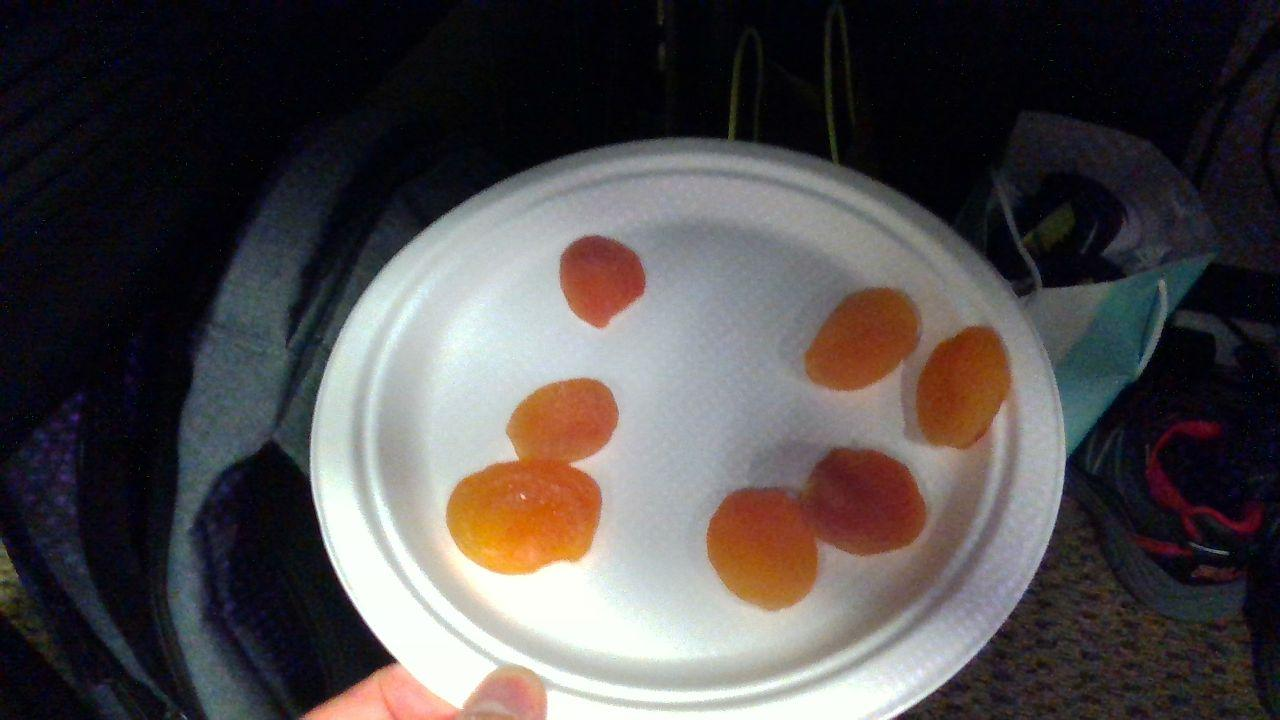apricot: (445, 463, 603, 575), (707, 491, 818, 610), (802, 449, 924, 555), (806, 291, 918, 390), (917, 328, 1008, 449), (507, 379, 619, 462), (561, 236, 643, 328)
